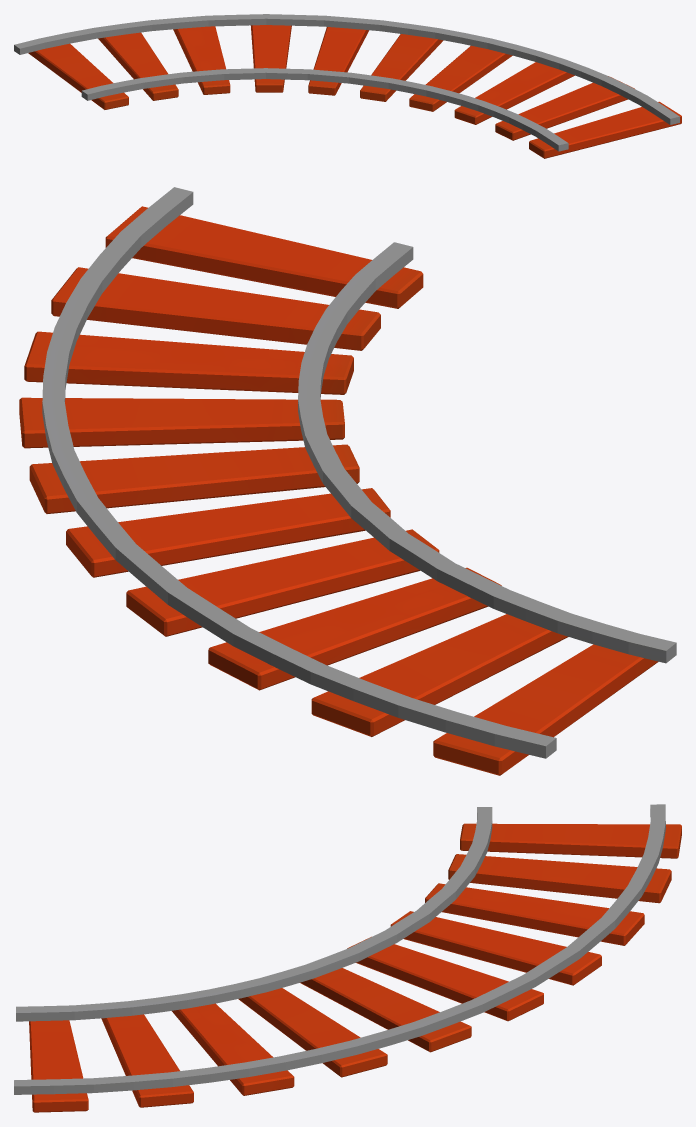
The model's file is StraitTrack90.fbx.
The picture shows the model from 3 angles, top to bottom: view 1: azimuth 30°, elevation 25°; view 2: azimuth 150°, elevation 25°; view 3: azimuth 270°, elevation 25°; orthographic projection. The views are drawn at different scales.
Visible parts, largest first — view 1: CurvedTrack90, Cube.003; view 2: CurvedTrack90, Cube.003; view 3: CurvedTrack90, Cube.003.
Part boxes in pixels (x1,y1,x2,y2): CurvedTrack90: (28, 25, 681, 158); Cube.003: (14, 14, 679, 151); CurvedTrack90: (19, 206, 658, 775); Cube.003: (42, 187, 676, 758); CurvedTrack90: (29, 823, 681, 1112); Cube.003: (14, 804, 665, 1094).
Size of the model in its own units: 7.15 by 0.2369 by 7.
